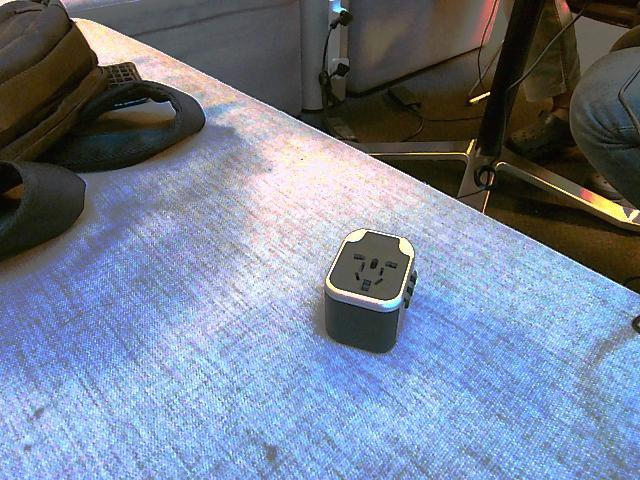adapter: (322, 227, 418, 353)
